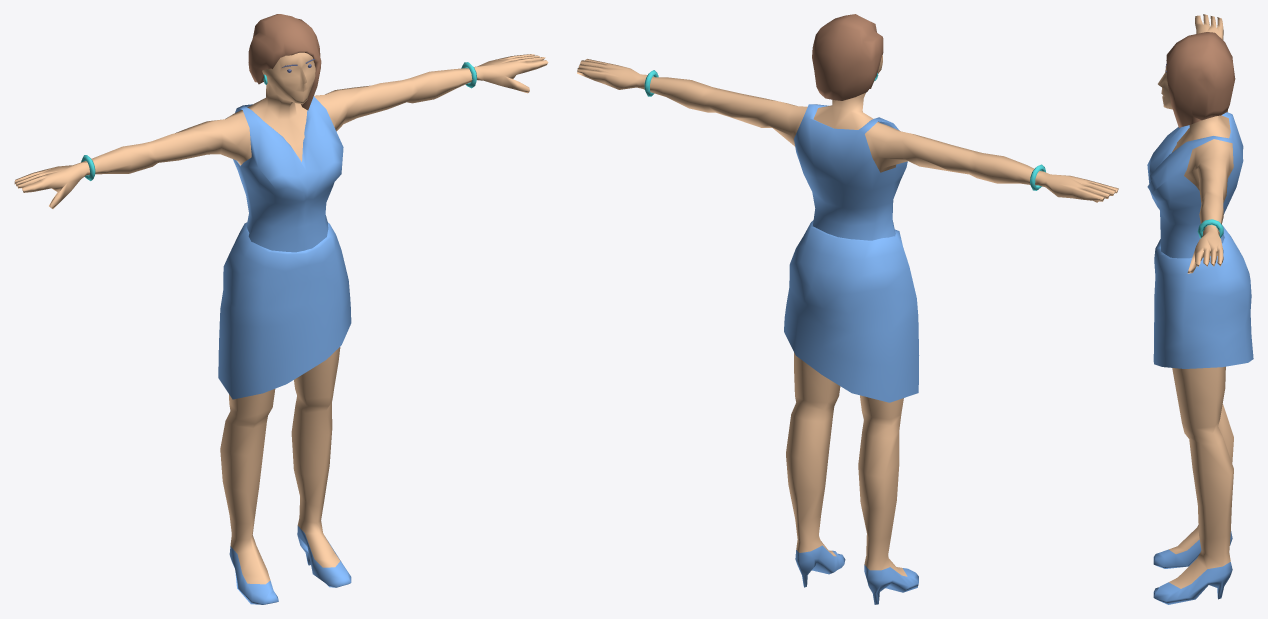
The model's file is gril.fbx.
3 renders of one model, left to right at view 1: azimuth 30°, elevation 25°; view 2: azimuth 150°, elevation 25°; view 3: azimuth 270°, elevation 25°, orthographic. The views are drawn at different scales.
Parts seen in each view (by area): view 1: gril1; view 2: gril1; view 3: gril1.
Part boxes in pixels (bbox=[...]): gril1: bbox=[14, 14, 548, 604]; gril1: bbox=[577, 14, 1118, 604]; gril1: bbox=[1147, 14, 1253, 604].
Size of the model in its own units: 168 by 172 by 30.28.
